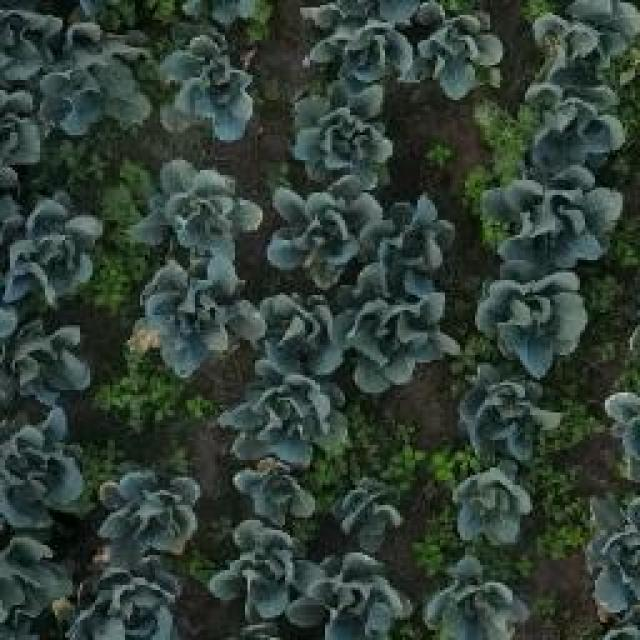cabbage: (475, 255, 585, 373), (487, 168, 621, 262), (146, 160, 264, 266), (37, 18, 151, 127), (222, 369, 347, 463), (135, 266, 249, 366), (289, 80, 399, 180), (160, 33, 258, 145), (267, 182, 377, 280), (210, 519, 312, 623), (94, 467, 198, 568), (344, 293, 455, 387), (461, 366, 566, 462), (306, 547, 414, 640), (0, 414, 88, 526), (6, 202, 103, 302), (306, 0, 416, 88), (535, 0, 640, 88), (524, 78, 629, 165), (415, 3, 504, 104), (425, 552, 527, 640), (251, 286, 347, 377), (366, 197, 462, 283), (77, 563, 184, 640), (10, 317, 93, 404), (449, 467, 534, 549), (233, 458, 321, 528), (334, 471, 406, 553)
